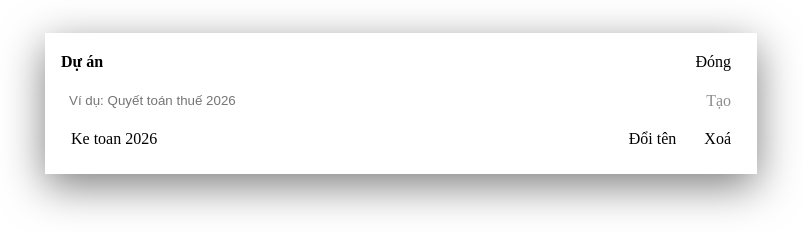
Scenario: nut xoa hai nhip › 🔴 nhip MOT khong xoa gi — no hoi so hoi thoai va noi ra
Click the button with aria-label "Xoá dự án: Ke toan 2026".
click(718, 139)  # box [694,126,741,152]
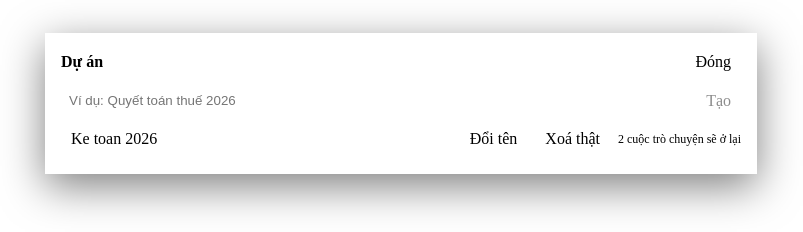
Expected: the text "2 cuộc trò chuyện sẽ ở lại" is shown, [618,132,741,146]
